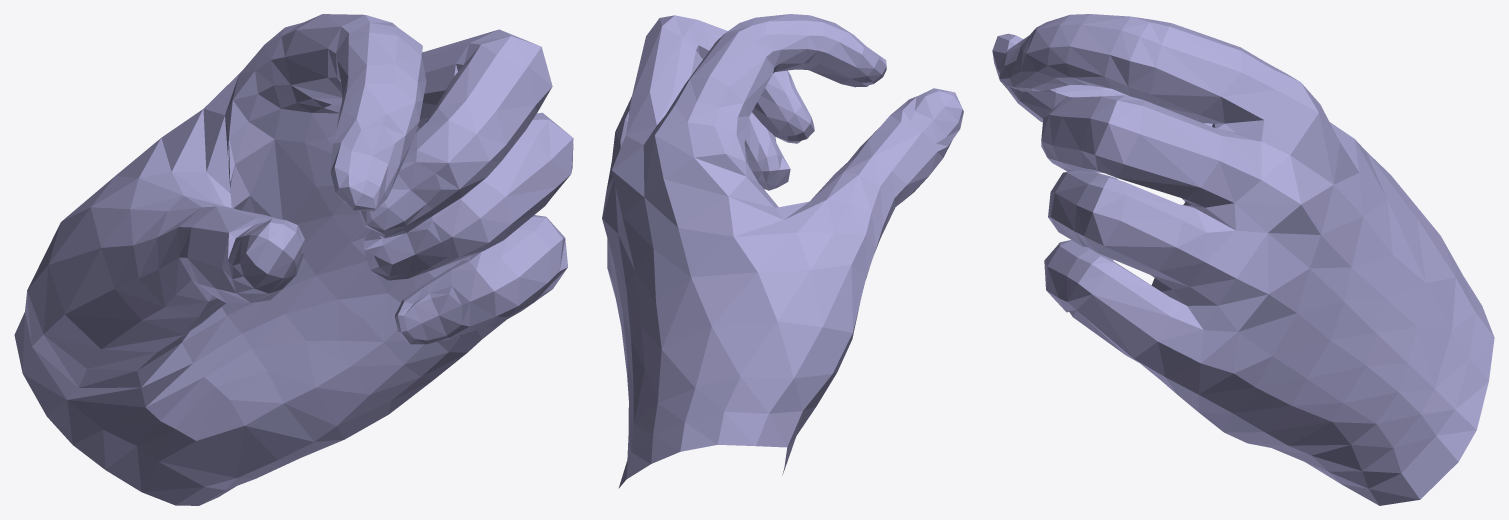
The model's file is hand_0110.glb.
The picture shows the model from 3 angles, left to right: view 1: azimuth 30°, elevation 25°; view 2: azimuth 150°, elevation 25°; view 3: azimuth 270°, elevation 25°; orthographic projection. The views are drawn at different scales.
Parts seen in each view (by area): view 1: world; view 2: world; view 3: world.
Boxes of the visible parts, left/top/right/bottom form: world: left=14, top=14, right=573, bottom=505; world: left=602, top=14, right=963, bottom=488; world: left=992, top=14, right=1494, bottom=505.
Bounding box in the file's own units: 0.0944 × 0.1257 × 0.1177.
